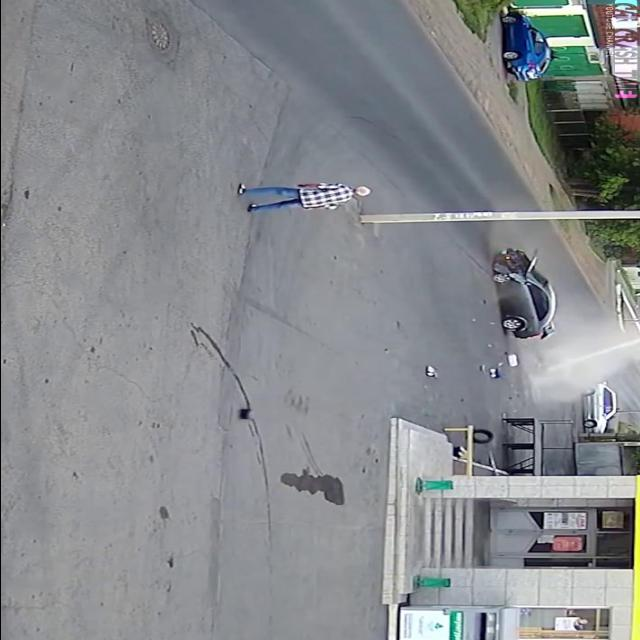accident: (472, 242, 560, 350)
